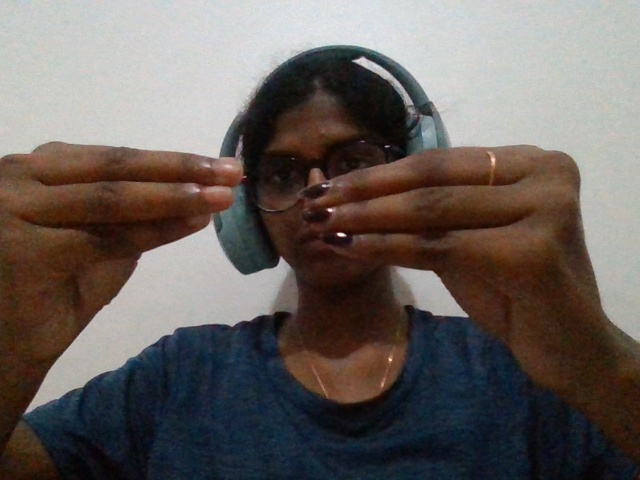More: (3, 109, 616, 357)
